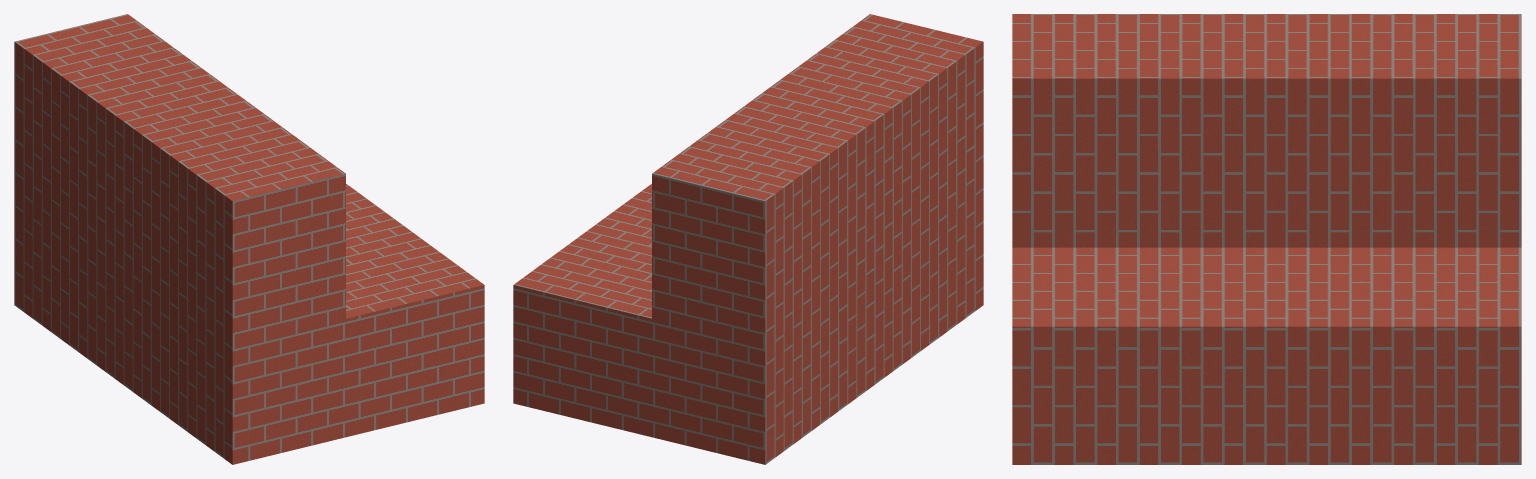
The picture shows the model from 3 angles, left to right: view 1: azimuth 30°, elevation 25°; view 2: azimuth 150°, elevation 25°; view 3: azimuth 270°, elevation 25°; orthographic projection. The views are drawn at different scales.
Visible parts, largest first — view 1: corner_T_production_run001; view 2: corner_T_production_run001; view 3: corner_T_production_run001.
Boxes of the visible parts, left/top/right/bottom form: corner_T_production_run001: left=14, top=14, right=484, bottom=464; corner_T_production_run001: left=513, top=14, right=983, bottom=464; corner_T_production_run001: left=1012, top=14, right=1521, bottom=464.
Size of the model in its own units: 2 by 2 by 3.
1 material, 1 textured.
